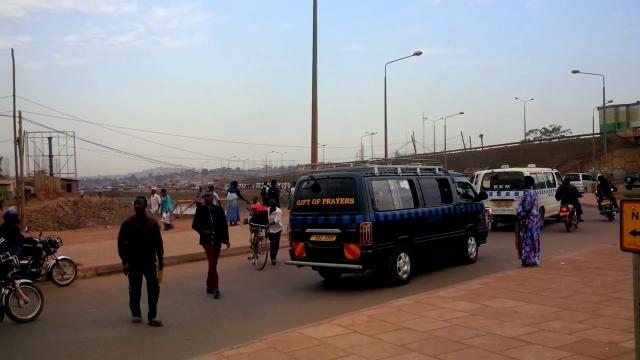motorcycle: (10, 225, 77, 288), (1, 238, 45, 324), (554, 174, 586, 229), (596, 177, 619, 223)
van: (281, 163, 490, 281), (467, 165, 563, 229), (562, 172, 595, 194)
